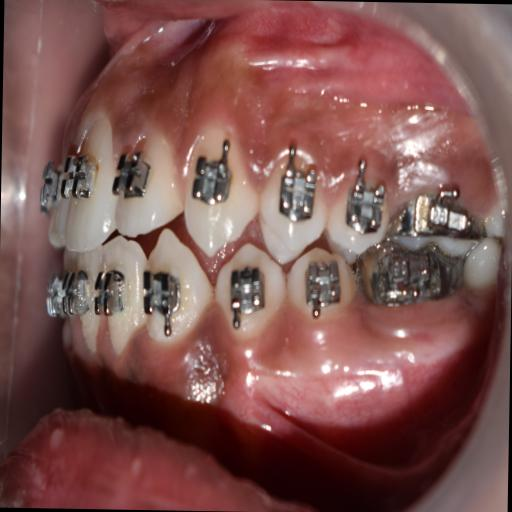correct_brace: (257, 147, 327, 263), (214, 244, 289, 344), (220, 262, 276, 330), (192, 135, 240, 213), (145, 264, 190, 338), (115, 143, 156, 213), (300, 262, 346, 322)
incorrect_brace: (112, 127, 182, 237), (274, 161, 319, 223)
